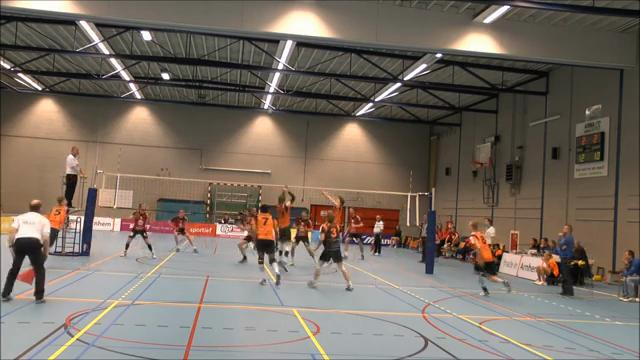alzata: (316, 188, 347, 237)
